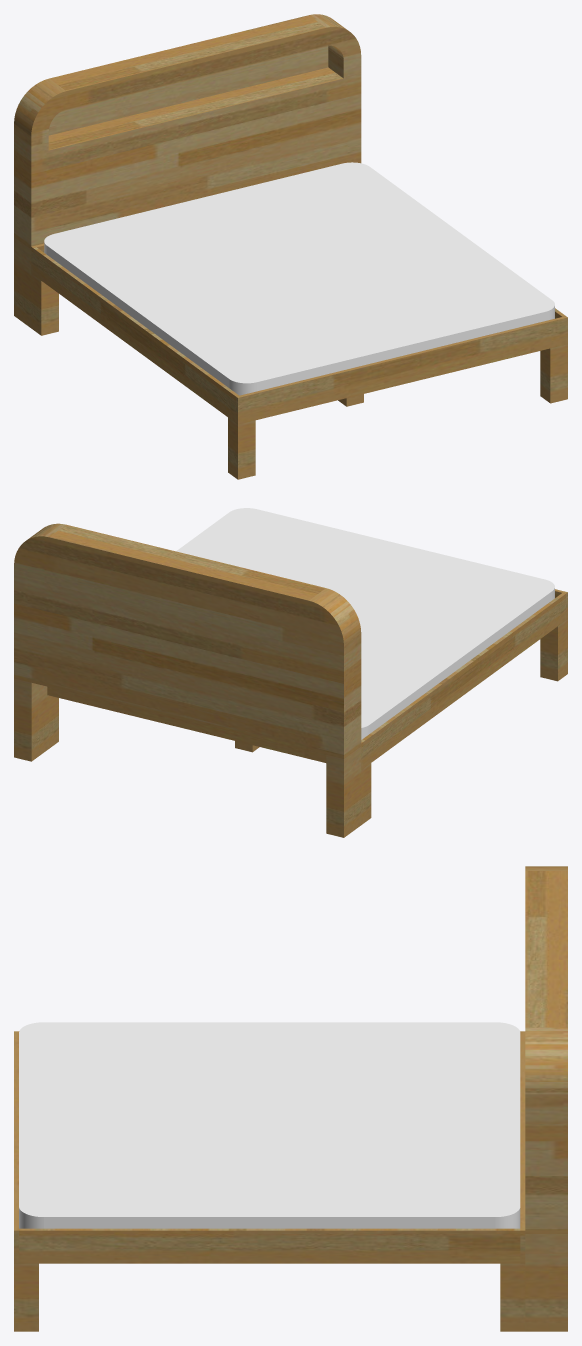
The picture shows the model from 3 angles, top to bottom: view 1: azimuth 30°, elevation 25°; view 2: azimuth 150°, elevation 25°; view 3: azimuth 270°, elevation 25°; orthographic projection. The views are drawn at different scales.
Parts seen in each view (by area): view 1: Root Node, 577700, 577699, 577705, 577697, 577726, 577706; view 2: Root Node, 577699, 577726, 577709, 578087, 577705, 577727, 577706, 577707; view 3: Root Node, 577701, 577709, 577707, 577697, 577698, 577700.
Part boxes in pixels (left/top/right/bottom): Root Node: left=14, top=14, right=554, bottom=395; 577700: left=236, top=316, right=567, bottom=424; 577699: left=33, top=247, right=238, bottom=422; 577705: left=228, top=417, right=255, bottom=479; 577697: left=540, top=344, right=567, bottom=403; 577726: left=14, top=237, right=31, bottom=327; 577706: left=31, top=273, right=58, bottom=335; Root Node: left=14, top=508, right=554, bottom=755; 577699: left=361, top=593, right=565, bottom=768; 577726: left=326, top=746, right=361, bottom=837; 577709: left=14, top=678, right=48, bottom=761; 578087: left=47, top=686, right=326, bottom=762; 577705: left=540, top=619, right=567, bottom=681; 577727: left=14, top=675, right=361, bottom=758; 577706: left=361, top=763, right=371, bottom=824; 577707: left=48, top=695, right=58, bottom=748; Root Node: left=19, top=866, right=567, bottom=1230; 577701: left=19, top=1228, right=520, bottom=1263; 577709: left=525, top=1234, right=567, bottom=1331; 577707: left=500, top=1263, right=525, bottom=1331; 577697: left=14, top=1263, right=38, bottom=1331; 577698: left=520, top=1031, right=525, bottom=1263; 577700: left=14, top=1031, right=18, bottom=1263.
Bounding box in the file's own units: 1.88 × 1.24 × 2.21.
Materials: 424 (370 with a texture image).
